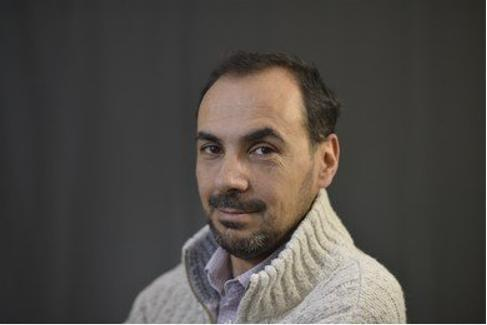Sober: (197, 93, 308, 243)
